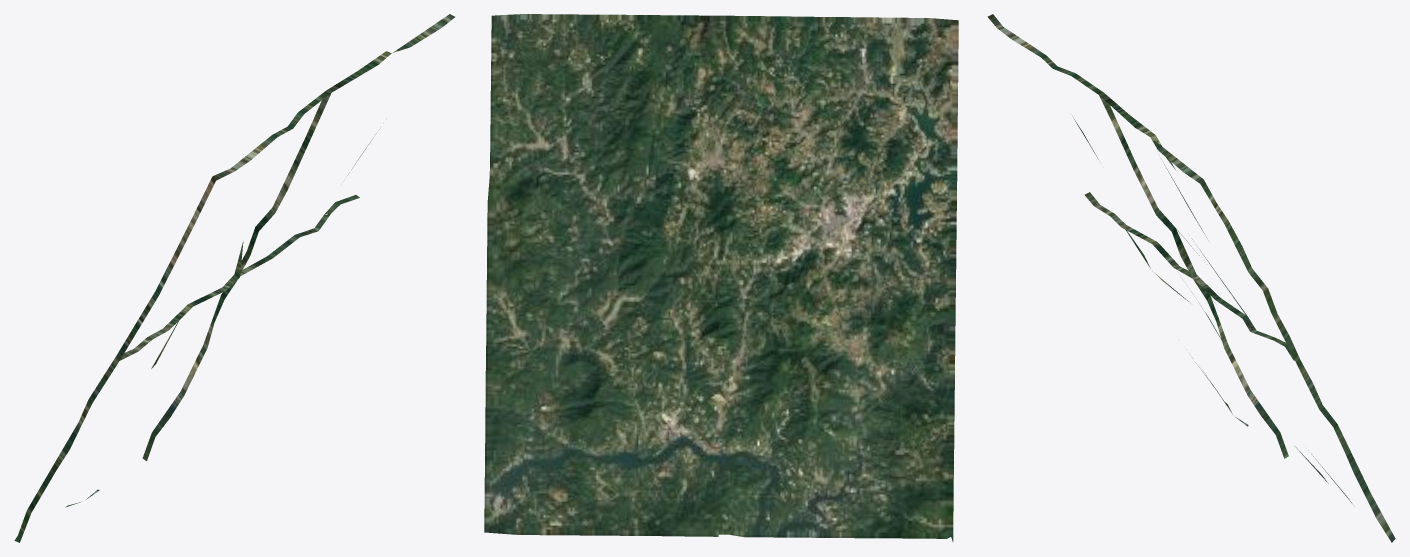
3 views of the same model, side by side, from view 1: azimuth 30°, elevation 25°; view 2: azimuth 150°, elevation 25°; view 3: azimuth 270°, elevation 25° (orthographic). The views are drawn at different scales.
Bounding box in the file's own units: 39938 × 35916 × 32362.
Materials: 1 (1 with a texture image).
